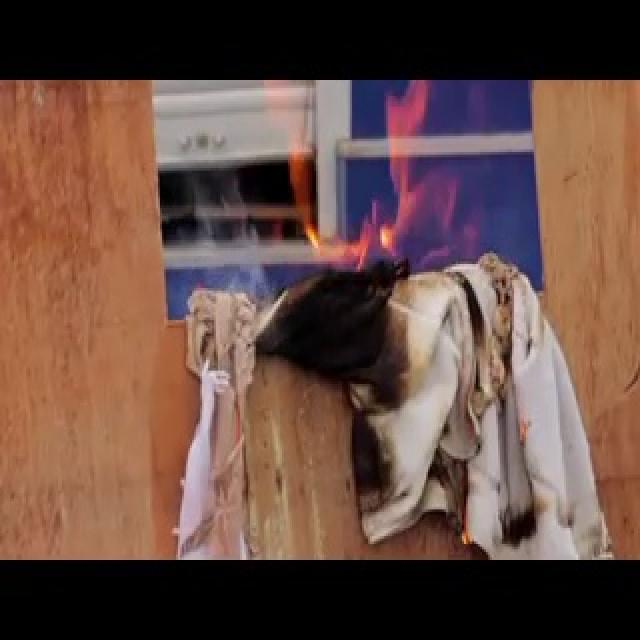fire: (249, 82, 503, 296)
